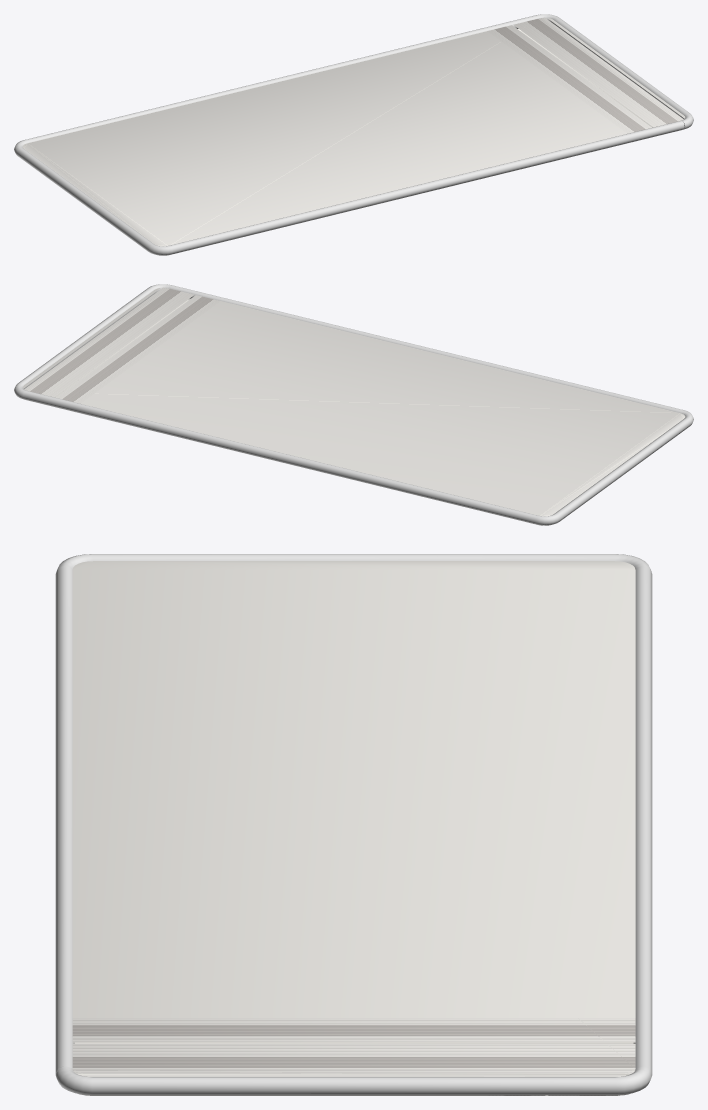
File: plaid_rug.fbx
3 views of the same model, one above another, from view 1: azimuth 30°, elevation 25°; view 2: azimuth 150°, elevation 25°; view 3: azimuth 270°, elevation 25° (orthographic). The views are drawn at different scales.
Parts seen in each view (by area): view 1: plaid_rug; view 2: plaid_rug; view 3: plaid_rug.
Boxes of the visible parts, x1,y1,x2,y2 form: plaid_rug: [14, 14, 693, 255]; plaid_rug: [14, 284, 693, 525]; plaid_rug: [55, 554, 652, 1095].
Bounding box in the file's own units: 9.14 × 0.17 × 4.34.
